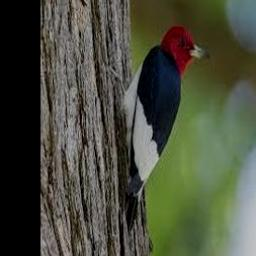Woodpecker: (109, 24, 210, 230)
